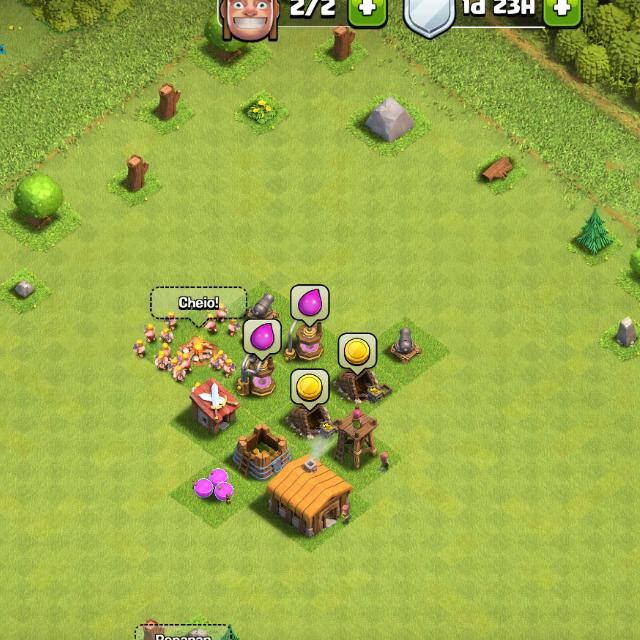Elixir: (290, 284, 328, 329), (243, 320, 283, 362)
coin: (339, 332, 378, 375), (291, 367, 328, 412)
